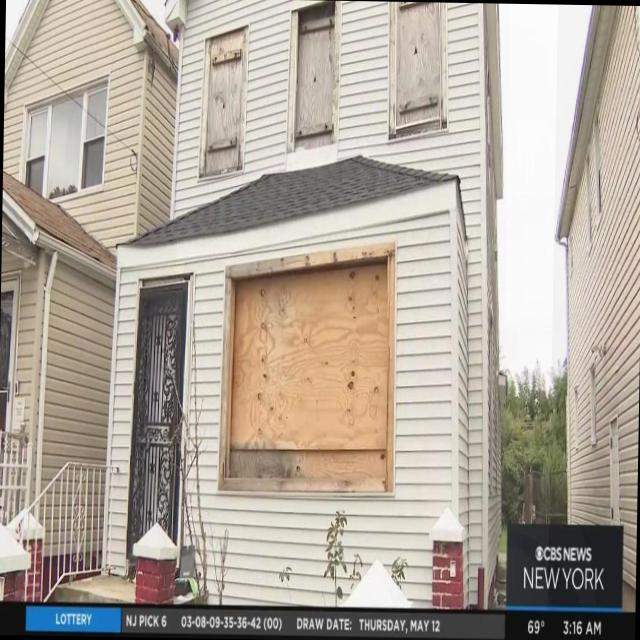House: (101, 0, 510, 609), (0, 0, 181, 603), (547, 4, 640, 611)
